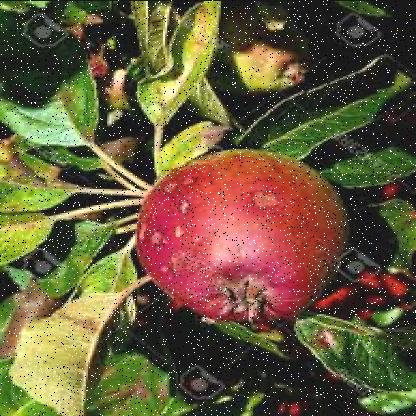damaged_apple: (141, 143, 348, 323)
